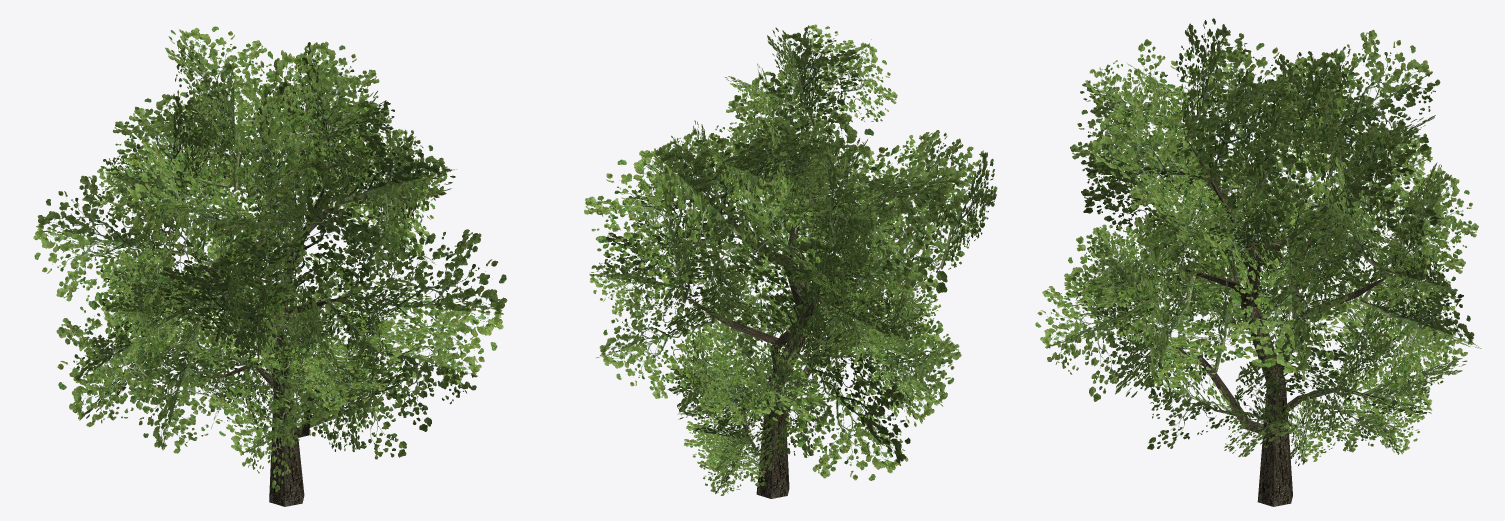
The model's file is tree_i.FBX.
3 renders of one model, left to right at view 1: azimuth 30°, elevation 25°; view 2: azimuth 150°, elevation 25°; view 3: azimuth 270°, elevation 25°, orthographic. The views are drawn at different scales.
Parts seen in each view (by area): view 1: tree_i; view 2: tree_i; view 3: tree_i.
Boxes of the visible parts, box(x1,y1,x2,y2) form: tree_i: box(33, 26, 507, 506); tree_i: box(584, 24, 997, 498); tree_i: box(1035, 18, 1481, 506).
Bounding box in the file's own units: 13.06 × 15.7 × 13.44.
2 materials, 2 textured.
